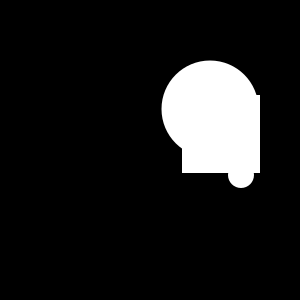circle: (182, 95, 260, 173)
rectangle: (162, 61, 258, 158), (228, 162, 254, 188)
